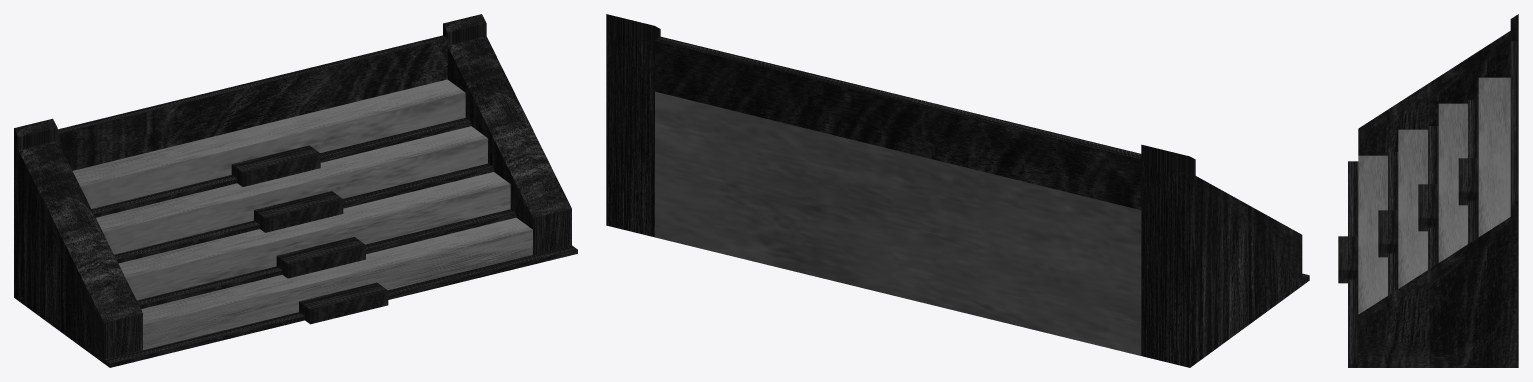
Rendered from arquibancada.fbx.
The picture shows the model from 3 angles, left to right: view 1: azimuth 30°, elevation 25°; view 2: azimuth 150°, elevation 25°; view 3: azimuth 270°, elevation 25°; orthographic projection. The views are drawn at different scales.
Parts seen in each view (by area): view 1: Cube.008; view 2: Cube.008; view 3: Cube.008.
Boxes of the visible parts, bbox=[...] form: Cube.008: bbox=[14, 14, 577, 367]; Cube.008: bbox=[606, 14, 1309, 367]; Cube.008: bbox=[1338, 14, 1518, 367].
Bounding box in the file's own units: 2400 × 831 × 900.
2 materials, 2 textured.
